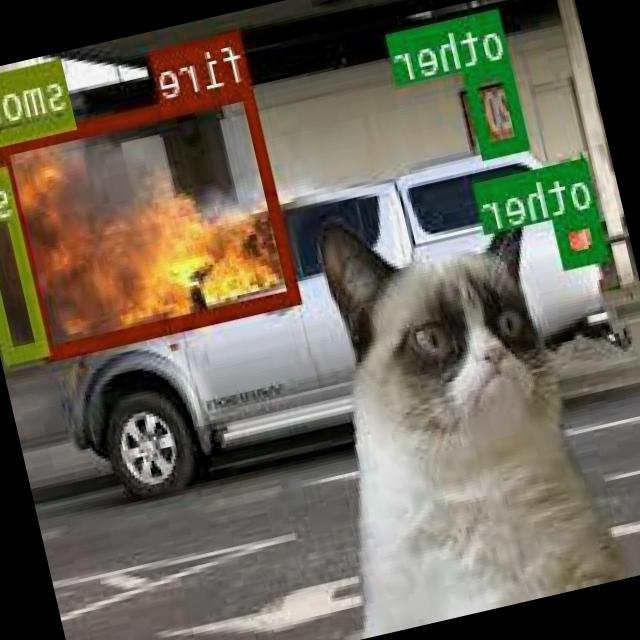fire: (0, 79, 303, 358)
smoke: (0, 161, 51, 358), (0, 55, 76, 150)
